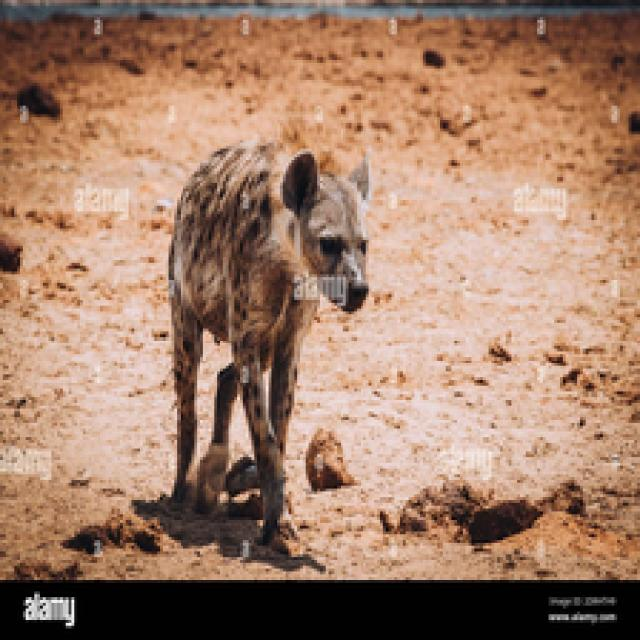hyena: (166, 134, 379, 536)
